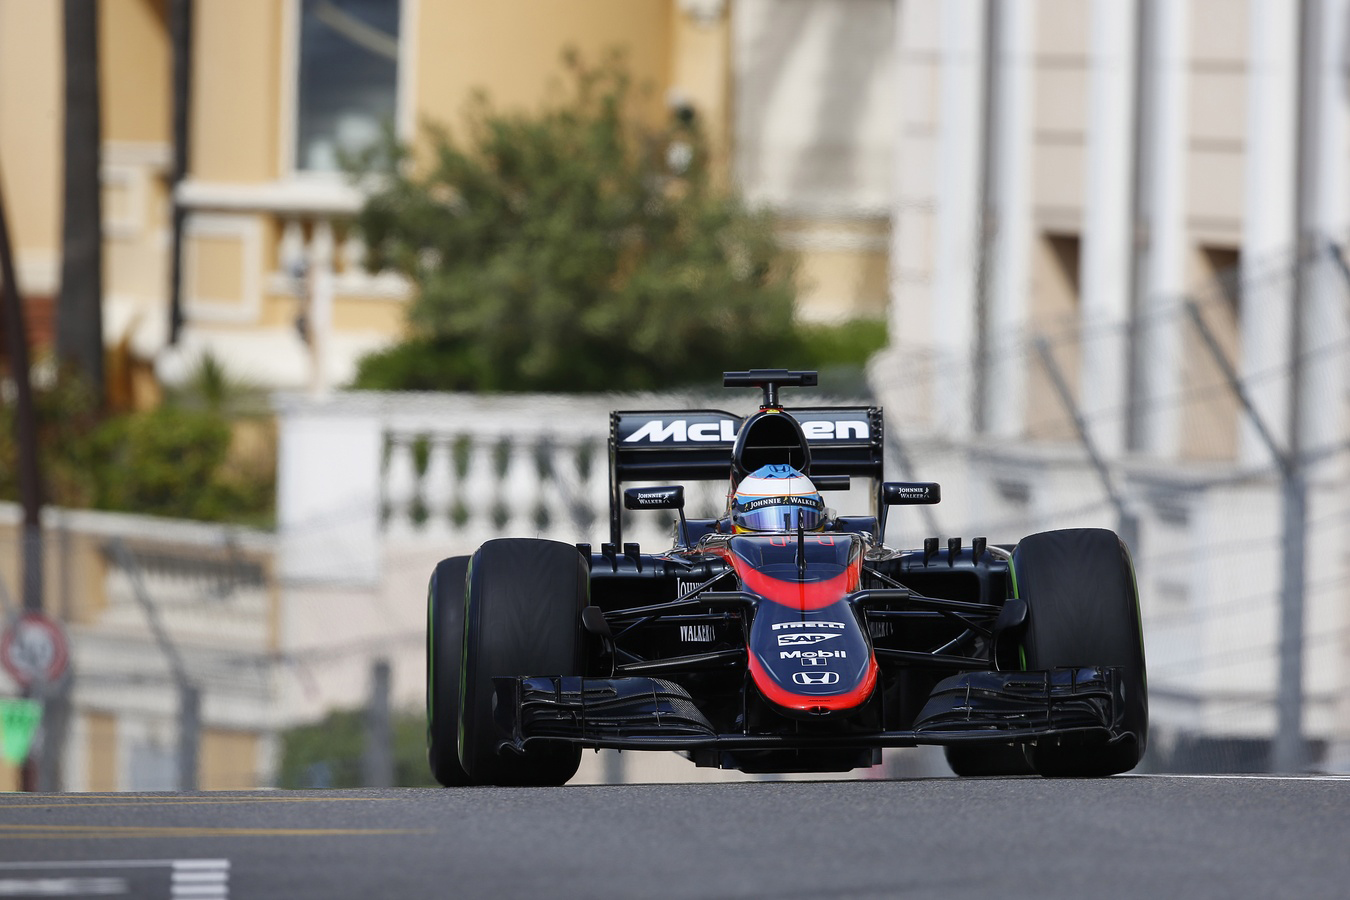F1 Car: (417, 359, 1159, 791)
